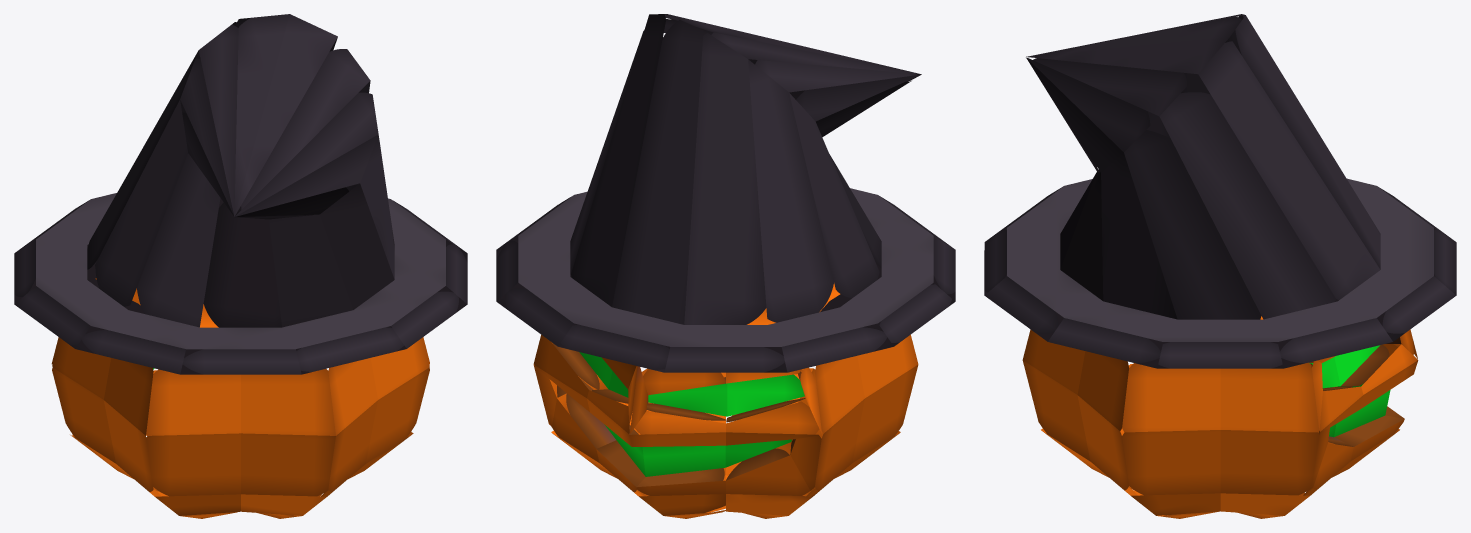
Rendered from WiccanHead.obj.
3 renders of one model, left to right at view 1: azimuth 30°, elevation 25°; view 2: azimuth 150°, elevation 25°; view 3: azimuth 270°, elevation 25°, orthographic. The views are drawn at different scales.
Visible parts, largest first — view 1: cylinder, sphere; view 2: cylinder, sphere; view 3: cylinder, sphere.
Part boxes in pixels (bbox=[...]): cylinder: bbox=[14, 14, 467, 374]; sphere: bbox=[51, 278, 429, 518]; cylinder: bbox=[496, 14, 955, 372]; sphere: bbox=[533, 283, 918, 518]; cylinder: bbox=[984, 14, 1456, 368]; sphere: bbox=[1022, 316, 1418, 518].
Size of the model in its own units: 0.5865 by 0.657 by 0.5865.
1 material, 1 textured.
